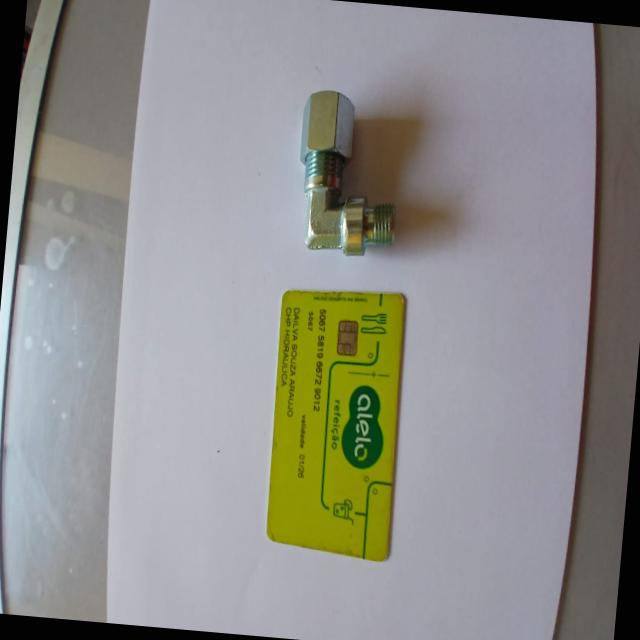cartao: (262, 284, 412, 564)
rosca_externa: (290, 86, 406, 262)
